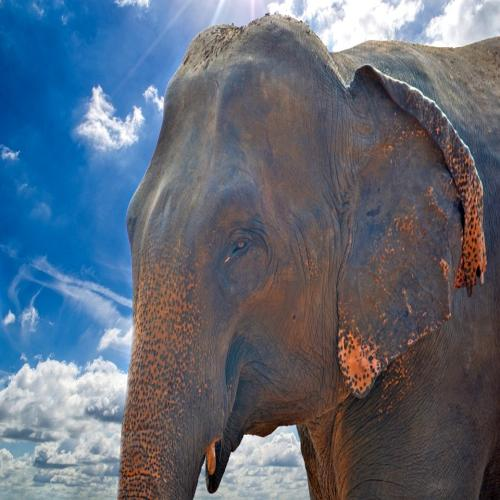asian_elephant-endangered: (118, 14, 482, 483)
